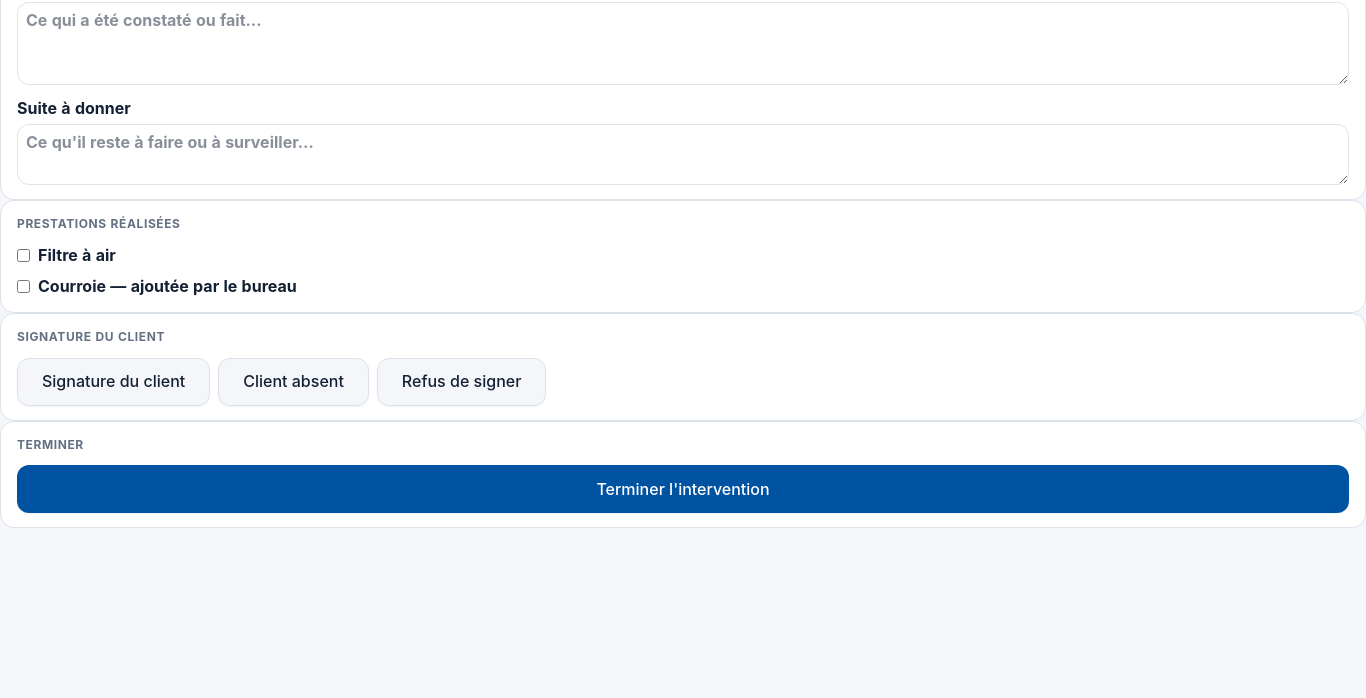
it: « Terminer » hors réseau AVEC signature est accepté et mis en file (9F4H3-HORS-RESEAU-ENVOYER, point 1, décision n° 108) › met « terminer » en file plutôt que de refuser, et montre l'attente d'envoi
The image size is (1366, 698).
Click the button "Client absent": click(294, 382) [218,358,369,406]
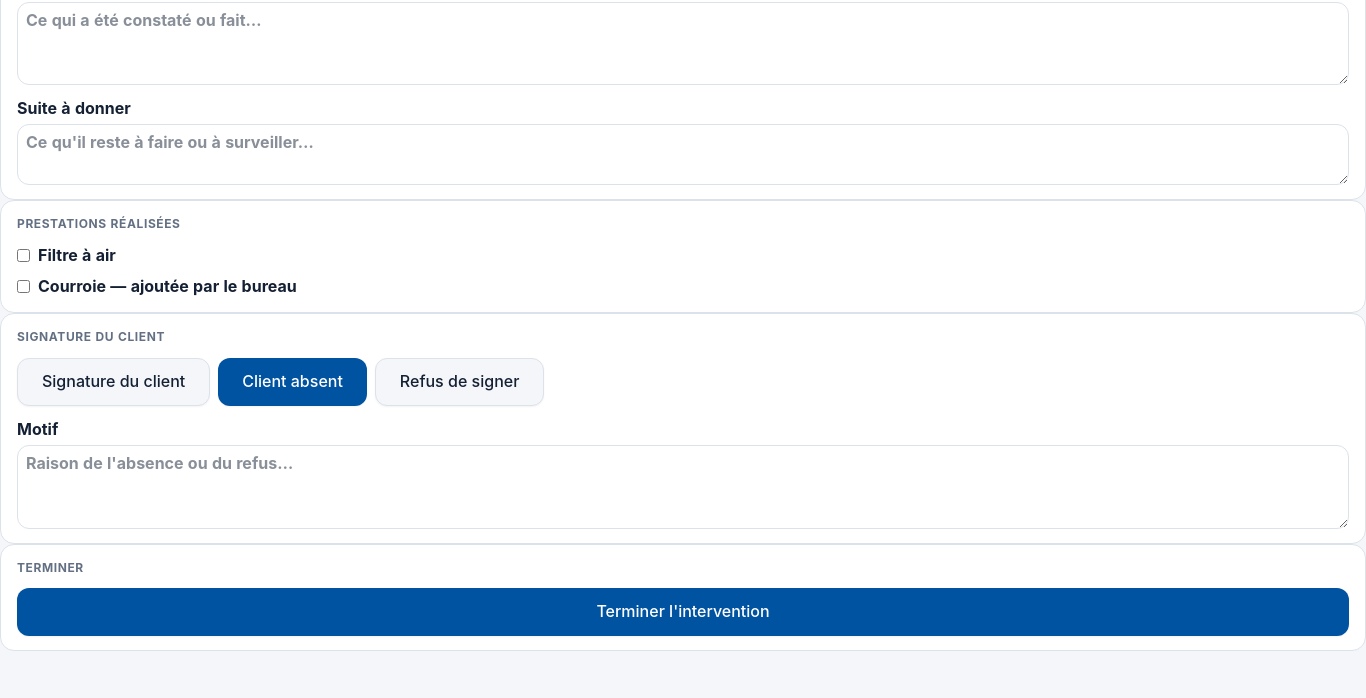
In the text box labelled "Motif": (683, 487) [17,445,1349,529], type "Client absent au départ du technicien"
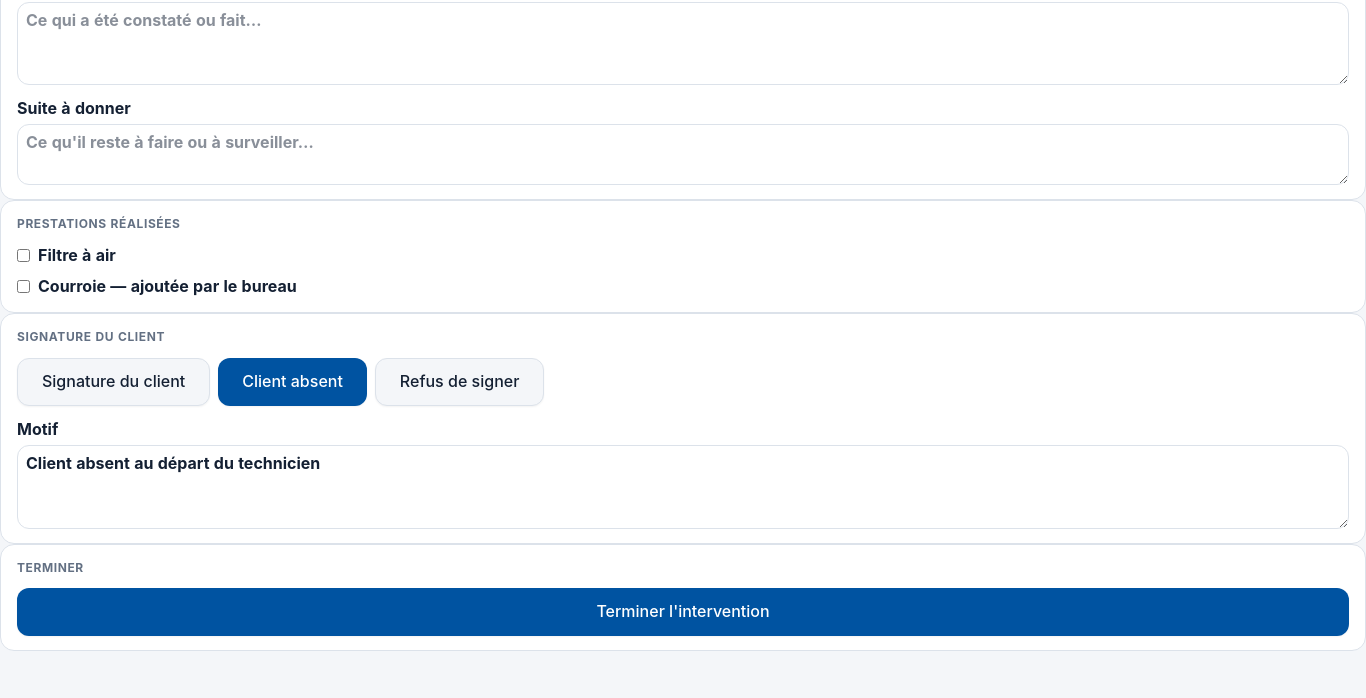
Click the button "Terminer l'intervention": click(683, 612) [17,588,1349,636]
(page scrolled)
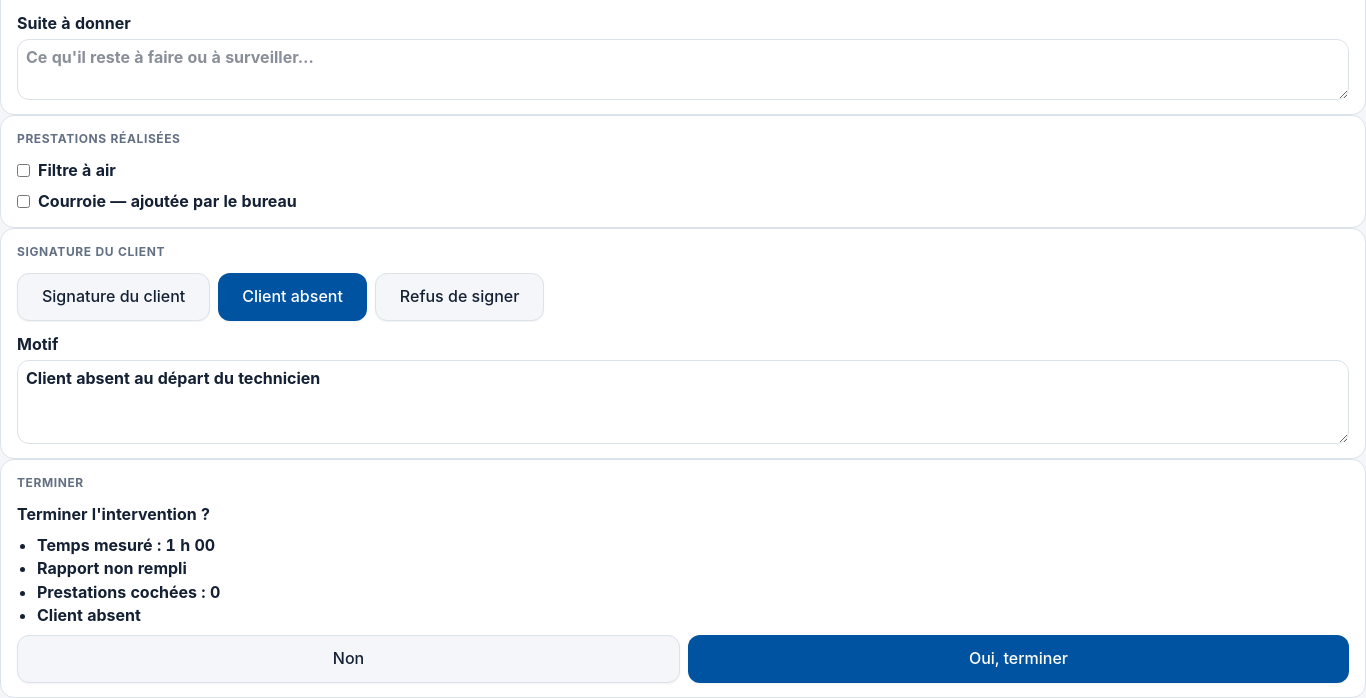
Click the button "Oui, terminer": click(1018, 659) [688,635,1349,683]
(page scrolled)
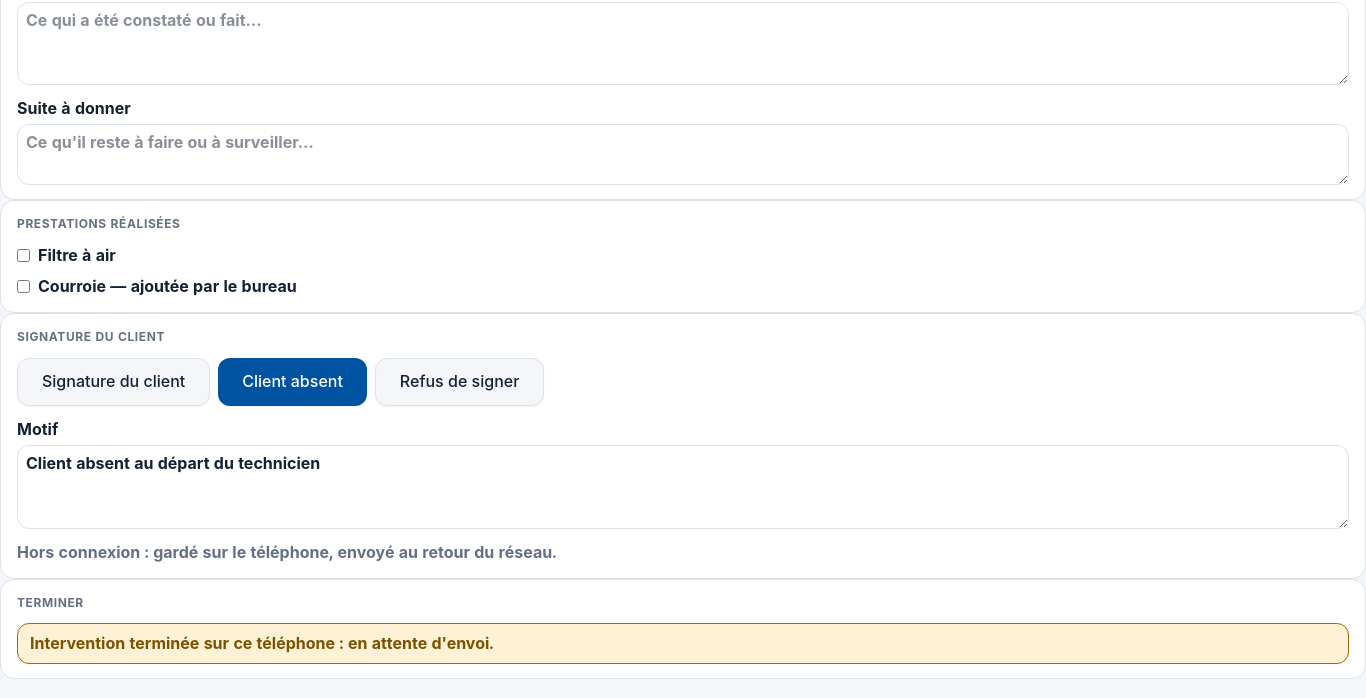
Result: the text "Intervention terminée sur ce téléphone : en attente d'envoi." is shown at [17,623,1349,664]
Result: the text "Terminer l'intervention" is gone
